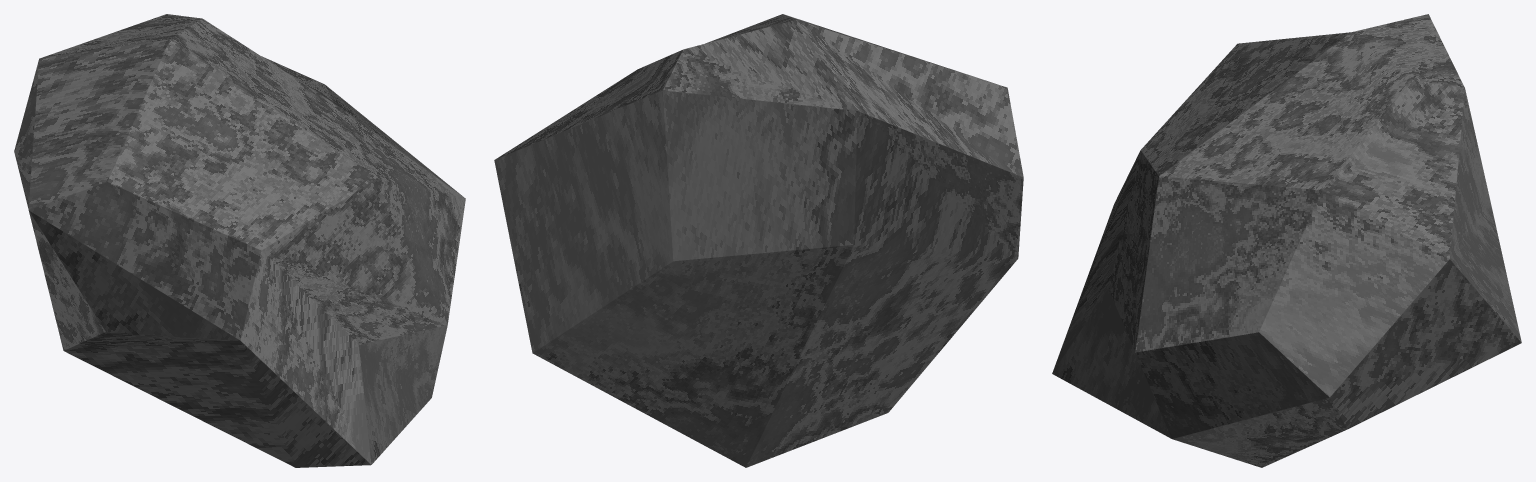
The model's file is Stone_3.glb.
3 renders of one model, left to right at view 1: azimuth 30°, elevation 25°; view 2: azimuth 150°, elevation 25°; view 3: azimuth 270°, elevation 25°, orthographic. The views are drawn at different scales.
Parts seen in each view (by area): view 1: Cube; view 2: Cube; view 3: Cube.
Part boxes in pixels (bbox=[...]): Cube: bbox=[14, 14, 465, 467]; Cube: bbox=[494, 14, 1023, 467]; Cube: bbox=[1052, 14, 1521, 467].
Bounding box in the file's own units: 0.7245 × 0.6542 × 0.7251.
Materials: 1 (1 with a texture image).
